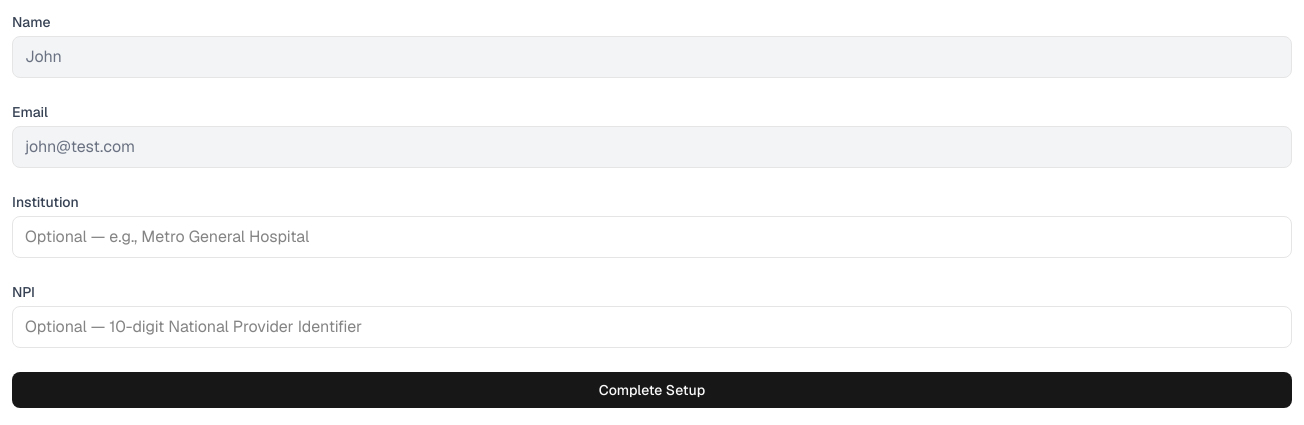
OnboardingForm › shows loading state during submission
Click the button "Complete Setup".
click(652, 390)  # box [12,372,1292,408]
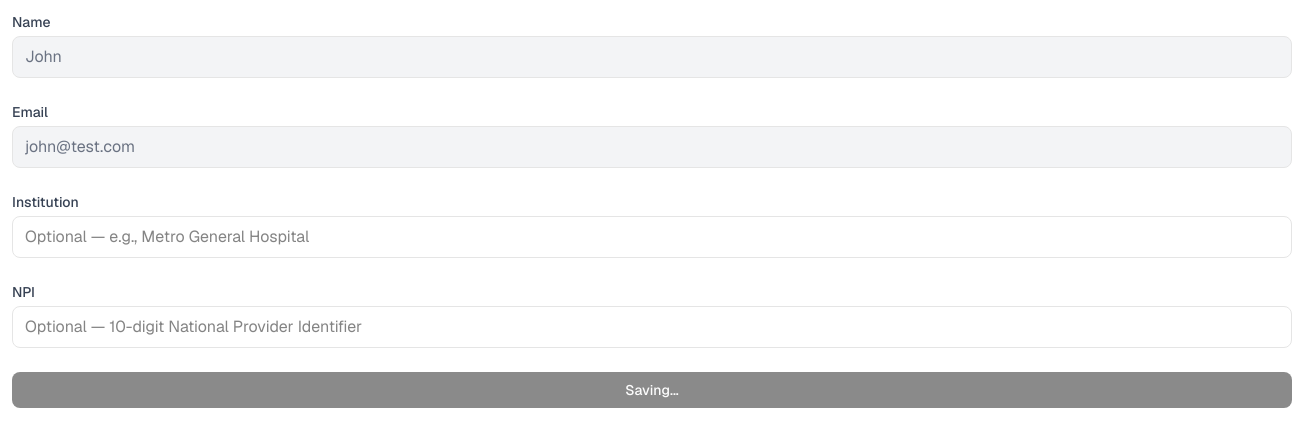
Expected: the button "Saving..." is shown, [12,372,1292,408]
